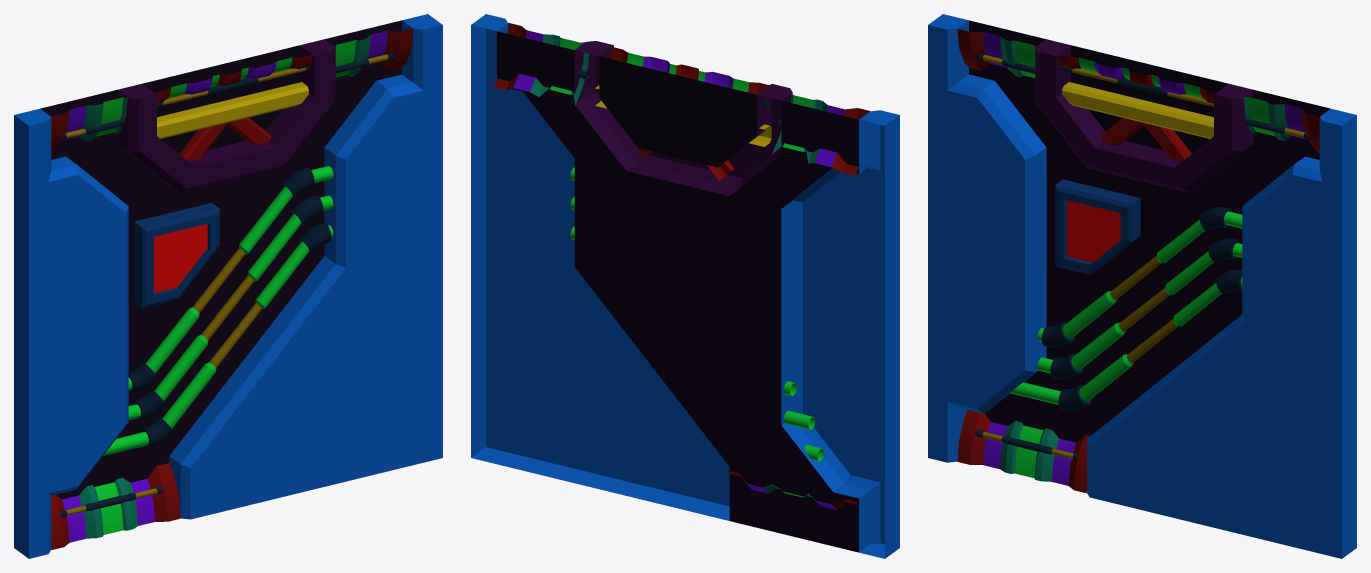
Rendered from OBJ_5_Mur_Sym.fbx.
3 renders of one model, left to right at view 1: azimuth 30°, elevation 25°; view 2: azimuth 150°, elevation 25°; view 3: azimuth 330°, elevation 25°, orthographic.
Visible parts, largest first — view 1: OBJ_5_Mur_Sym; view 2: OBJ_5_Mur_Sym; view 3: OBJ_5_Mur_Sym.
Boxes of the visible parts, left/top/right/bottom form: OBJ_5_Mur_Sym: left=14, top=14, right=442, bottom=558; OBJ_5_Mur_Sym: left=471, top=14, right=899, bottom=558; OBJ_5_Mur_Sym: left=928, top=14, right=1356, bottom=558.
Size of the model in its own units: 16 by 16.06 by 1.39.
